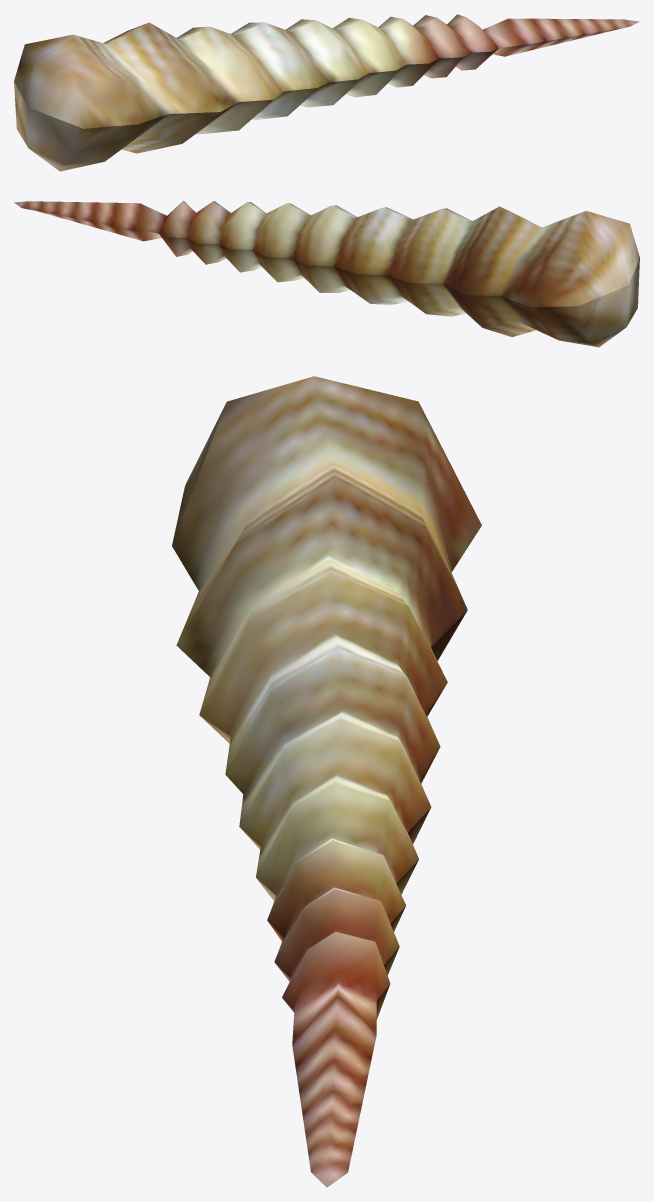
The model's file is SeaShell-12_LOD0_newsmall..glb.
3 views of the same model, one above another, from view 1: azimuth 30°, elevation 25°; view 2: azimuth 150°, elevation 25°; view 3: azimuth 270°, elevation 25° (orthographic). The views are drawn at different scales.
Visible parts, largest first — view 1: SeaShell-12_high; view 2: SeaShell-12_high; view 3: SeaShell-12_high.
Part boxes in pixels (x1,y1,x2,y2): SeaShell-12_high: (14,14,639,171); SeaShell-12_high: (14,200,639,347); SeaShell-12_high: (172,376,481,1187).
Size of the model in its own units: 0.1455 by 0.0317 by 0.0319.
1 material, 1 textured.
